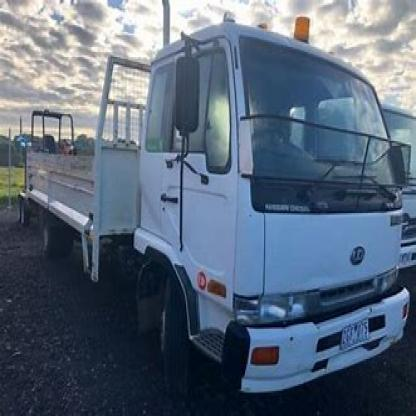dump_truck: (19, 18, 407, 410)
